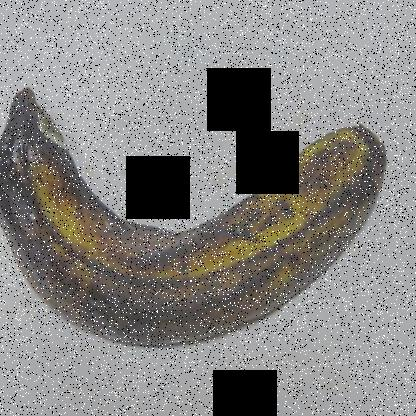rotten: (1, 40, 399, 376)
